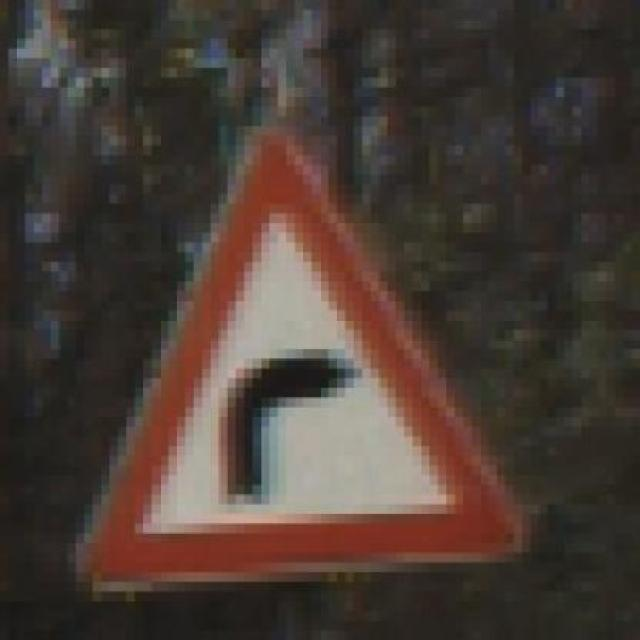Dangerous Rright Curve Ahead: (67, 126, 539, 592)
